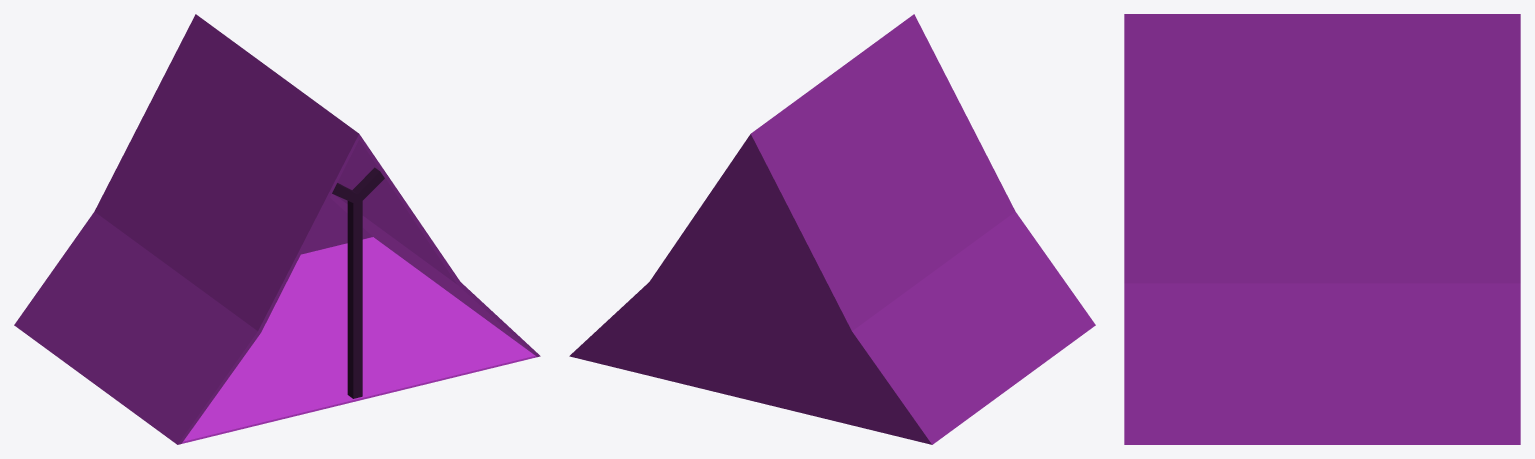
File: Tent_1_Purple.fbx
3 renders of one model, left to right at view 1: azimuth 30°, elevation 25°; view 2: azimuth 150°, elevation 25°; view 3: azimuth 270°, elevation 25°, orthographic. The views are drawn at different scales.
Visible parts, largest first — view 1: Tent_1_Purple_Part_3, Tent_1_Purple_Part_1, Tent_1_Purple_Part_2, Tent_1_Purple_Part_5, Tent_1_Purple_Part_7, Tent_1_Purple_Part_4, Tent_1_Purple_Part_6; view 2: Tent_1_Purple_Part_3, Tent_1_Purple_Part_6, Tent_1_Purple_Part_2, Tent_1_Purple_Part_5; view 3: Tent_1_Purple_Part_5, Tent_1_Purple_Part_4.
Part boxes in pixels (x1,y1,x2,y2): Tent_1_Purple_Part_3: [94, 14, 359, 332]; Tent_1_Purple_Part_1: [181, 237, 536, 443]; Tent_1_Purple_Part_2: [14, 212, 260, 444]; Tent_1_Purple_Part_5: [335, 134, 460, 284]; Tent_1_Purple_Part_7: [332, 167, 384, 398]; Tent_1_Purple_Part_4: [330, 194, 540, 357]; Tent_1_Purple_Part_6: [301, 198, 372, 254]; Tent_1_Purple_Part_3: [750, 14, 1015, 332]; Tent_1_Purple_Part_6: [573, 140, 928, 443]; Tent_1_Purple_Part_2: [849, 212, 1095, 444]; Tent_1_Purple_Part_5: [649, 134, 750, 284]; Tent_1_Purple_Part_5: [1124, 14, 1520, 283]; Tent_1_Purple_Part_4: [1124, 283, 1520, 444].
Bounding box in the file's own units: 192 × 135 × 150.
